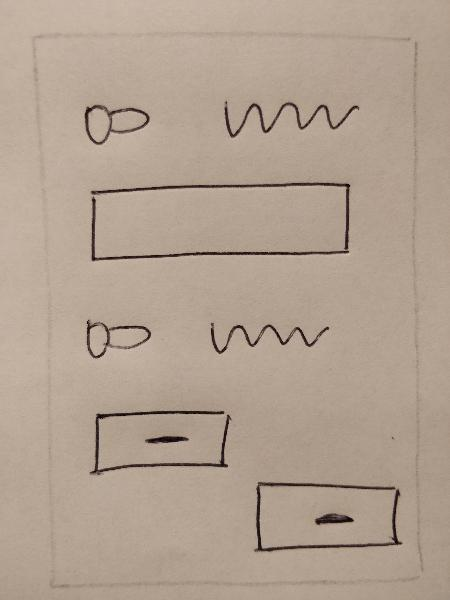button: (251, 477, 408, 558), (84, 404, 238, 479)
switch: (73, 94, 160, 157), (79, 314, 155, 365)
text: (214, 97, 368, 144), (196, 311, 331, 361)
text_input: (79, 176, 357, 268)
